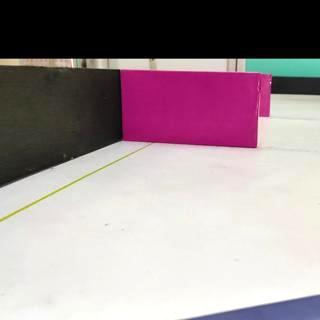xparking: (124, 74, 256, 141)
